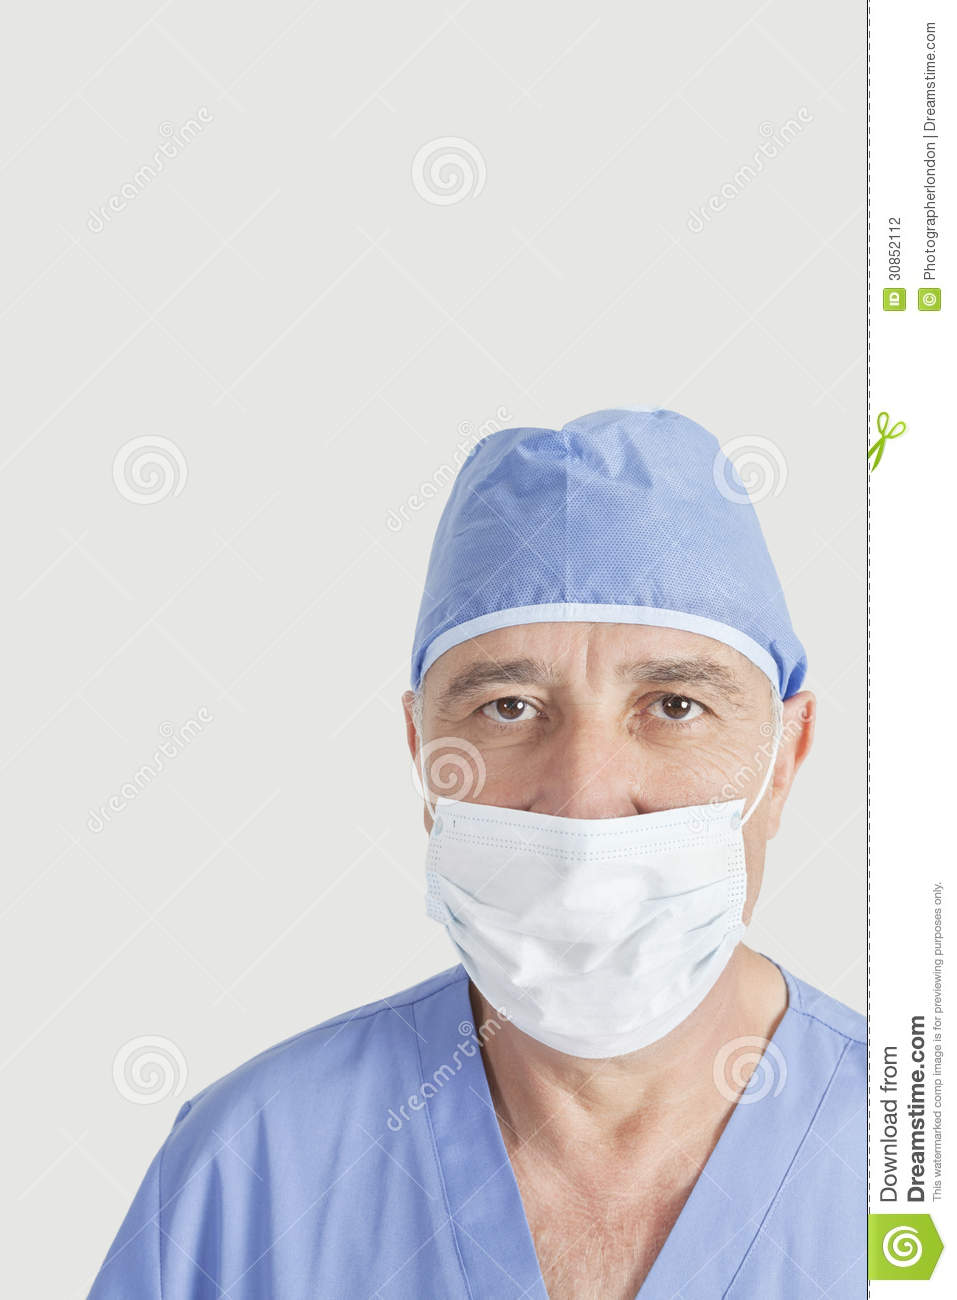mask: (400, 785, 766, 1057)
